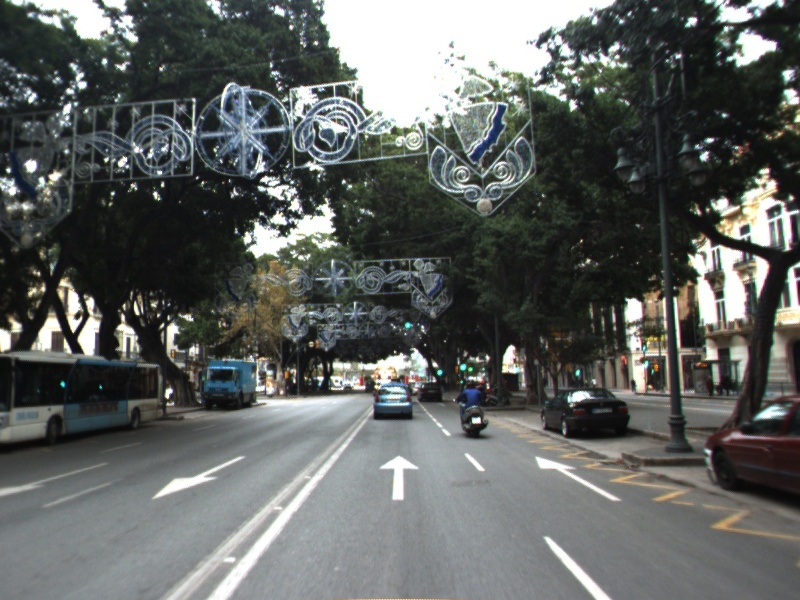STRAIGHT: (533, 454, 624, 503), (378, 453, 421, 502)
